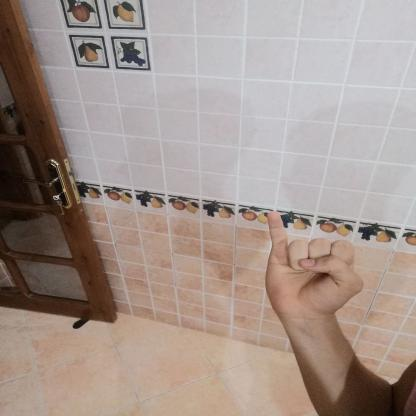MEEM: (250, 202, 375, 330)
